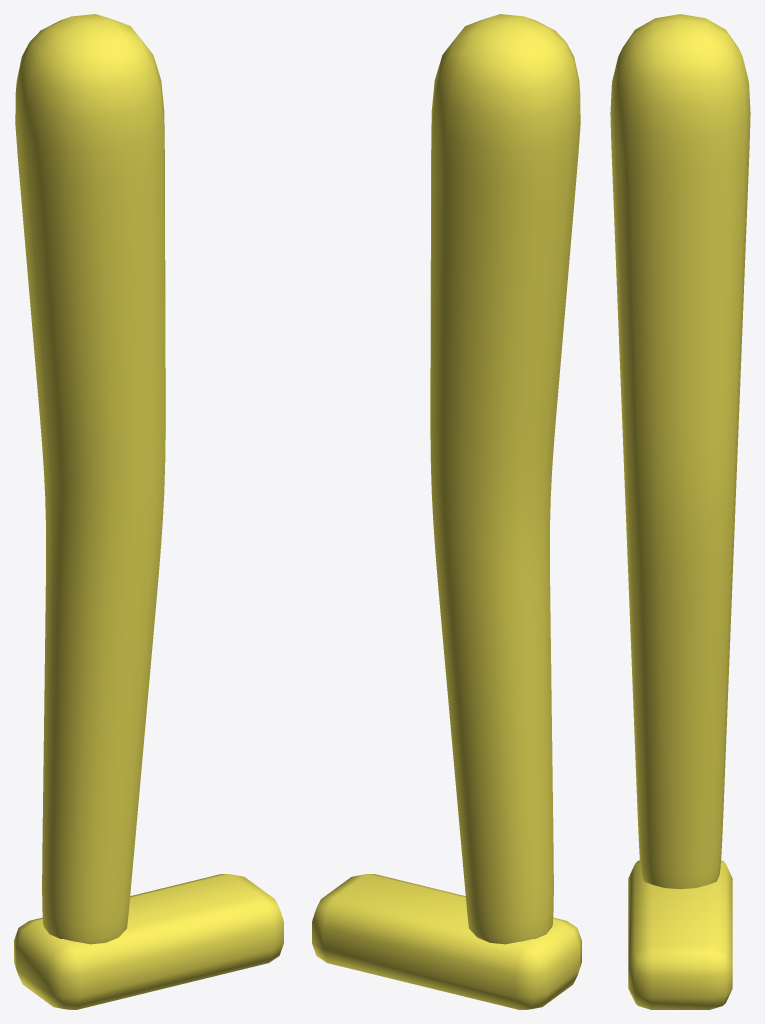
Rendered from SM_Partygoer_Leg.fbx.
3 views of the same model, side by side, from view 1: azimuth 30°, elevation 25°; view 2: azimuth 150°, elevation 25°; view 3: azimuth 270°, elevation 25° (orthographic). The views are drawn at different scales.
Parts seen in each view (by area): view 1: SM_Partygoer_Leg; view 2: SM_Partygoer_Leg; view 3: SM_Partygoer_Leg.
Part boxes in pixels (box(x1,y1,x2,y2)): SM_Partygoer_Leg: box(14, 14, 283, 1009); SM_Partygoer_Leg: box(312, 14, 581, 1009); SM_Partygoer_Leg: box(610, 14, 750, 1009).
Bounding box in the file's own units: 22.58 × 86.95 × 12.06.
